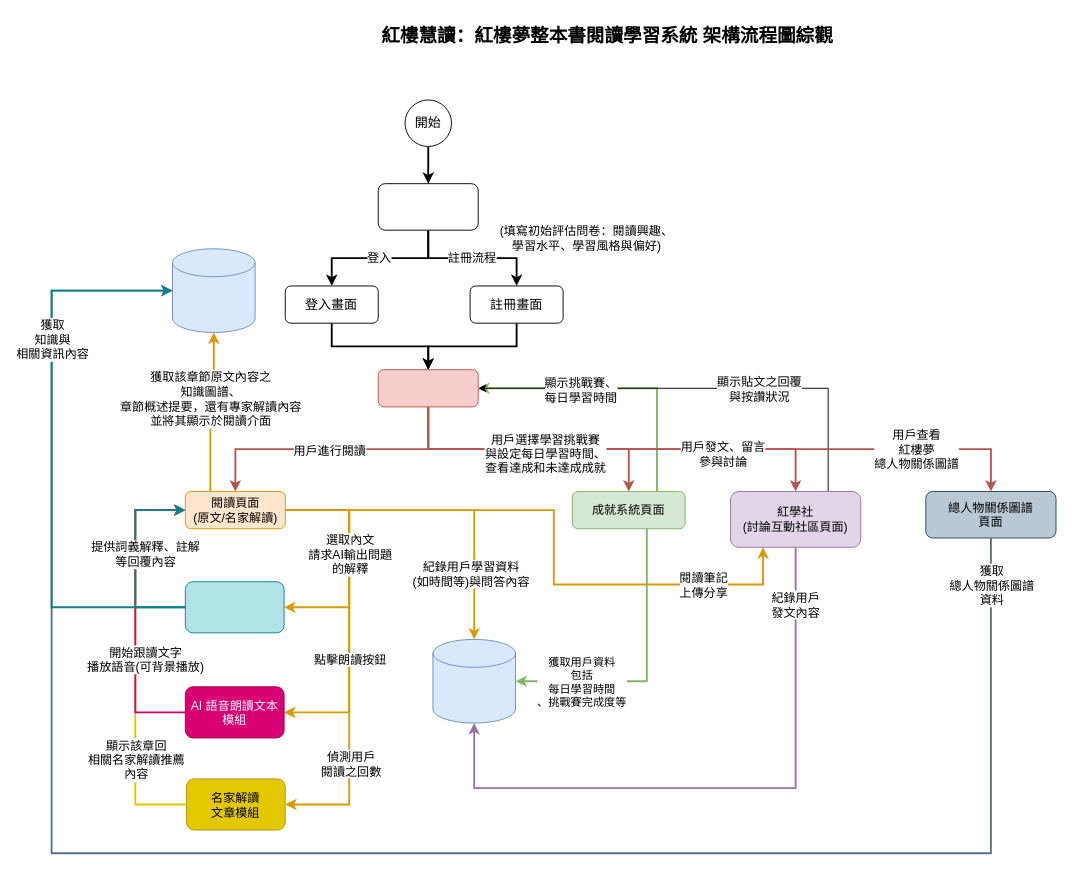
Image size: 1072x877. Some labels were removed from this diagram. The shapes that lost their labels are listed below. From the top down, each one's centre as x and y in pixels, then its label:
(x=427, y=206): 介紹頁
(x=213, y=290): 紅學 知識庫
(x=427, y=388): 首頁
(x=234, y=607): AI問答模組
(x=473, y=680): 用戶資料庫
